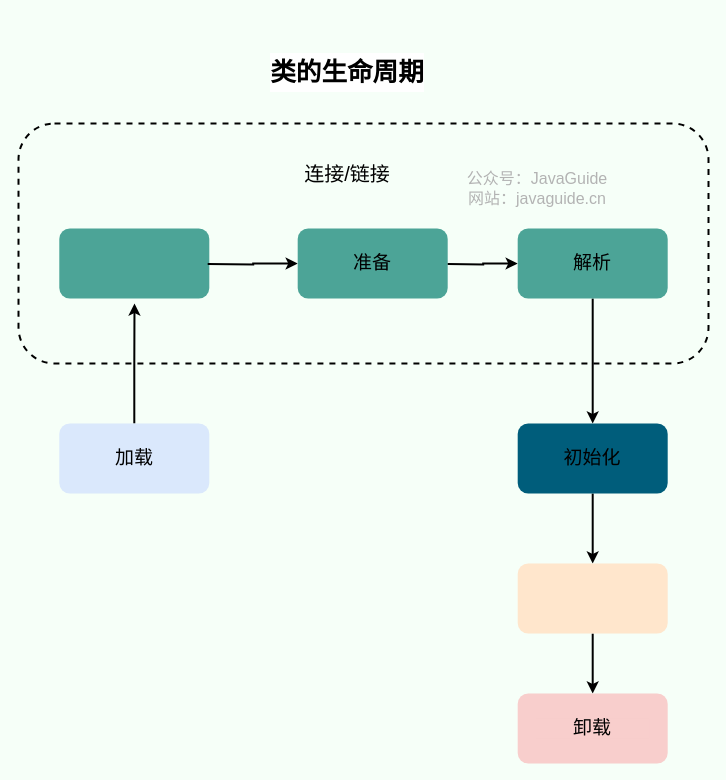
This 726x780 diagram has some shape labels left out. Each missing label, with the box of its shape:
使用: (517, 563, 667, 633)
验证: (59, 228, 209, 298)
